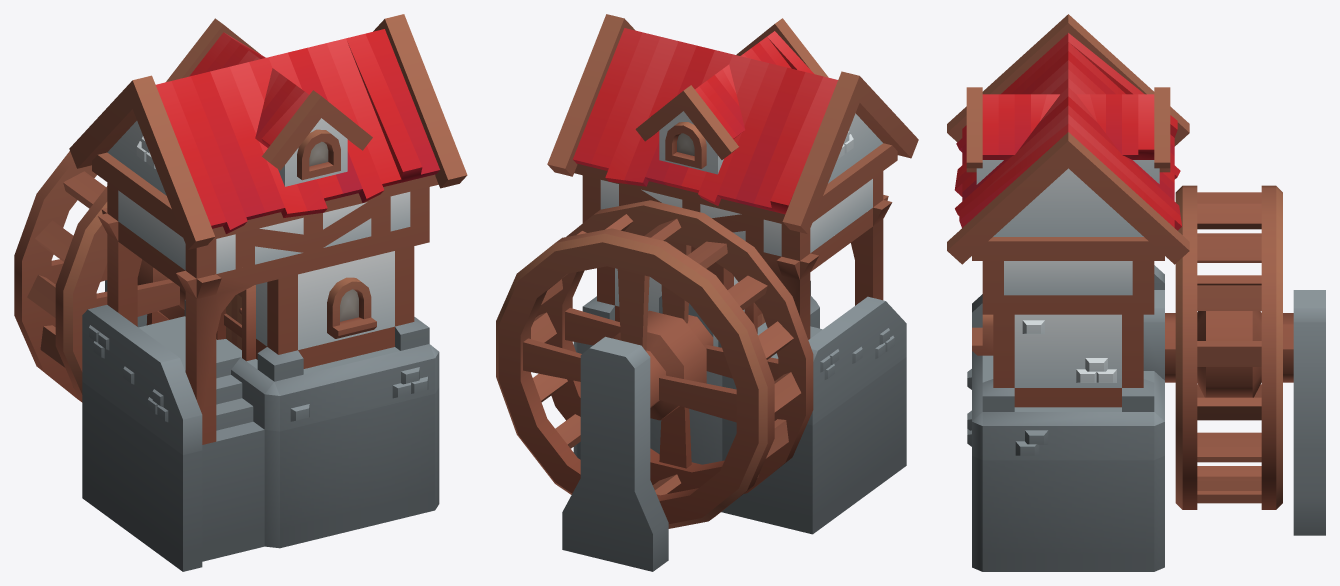
The model's file is watermill.glb.
3 renders of one model, left to right at view 1: azimuth 30°, elevation 25°; view 2: azimuth 150°, elevation 25°; view 3: azimuth 270°, elevation 25°, orthographic. The views are drawn at different scales.
Visible parts, largest first — view 1: watermill; view 2: watermill; view 3: watermill.
Part boxes in pixels (left/top/right/bottom): watermill: left=14, top=14, right=467, bottom=571; watermill: left=496, top=14, right=918, bottom=571; watermill: left=947, top=14, right=1325, bottom=571.
Size of the model in its own units: 0.525 by 0.784 by 0.618.
1 material, 1 textured.
